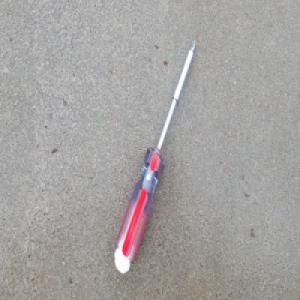Screwdriver: (112, 37, 197, 276)
